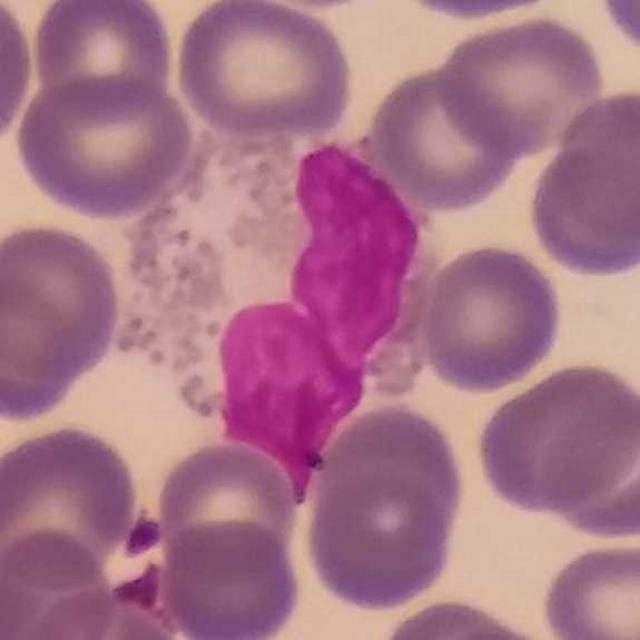eosino: (121, 120, 444, 509)
